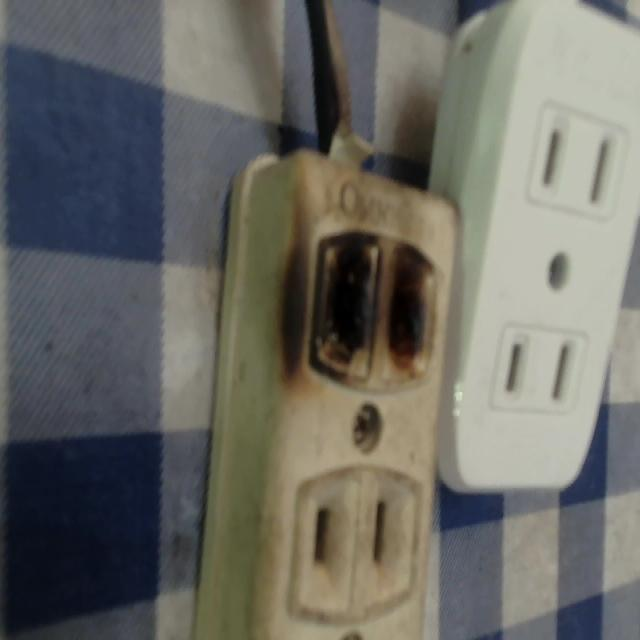-: (285, 215, 435, 384)
